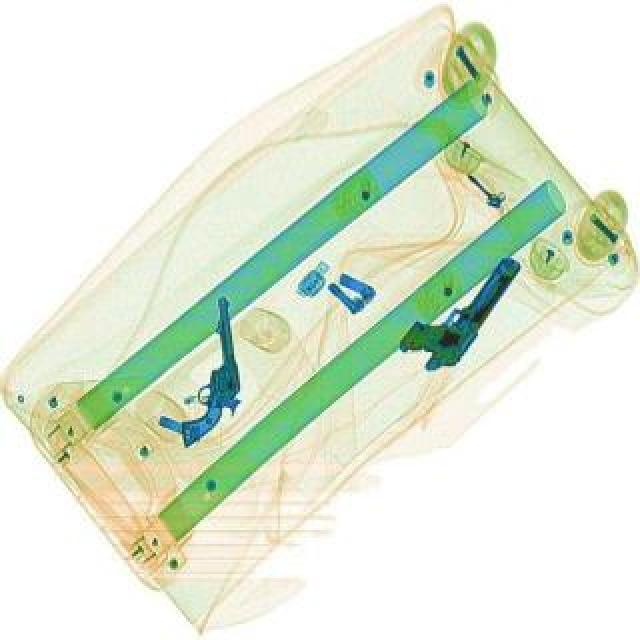gun: (392, 234, 524, 382), (164, 294, 246, 446)
